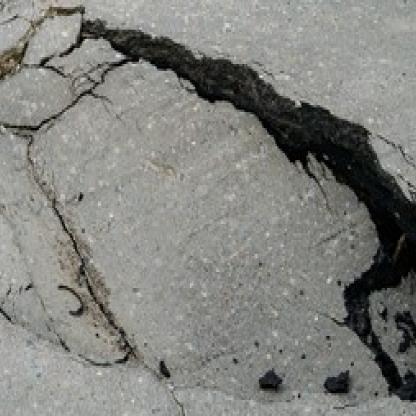pothole: (0, 26, 416, 412)
